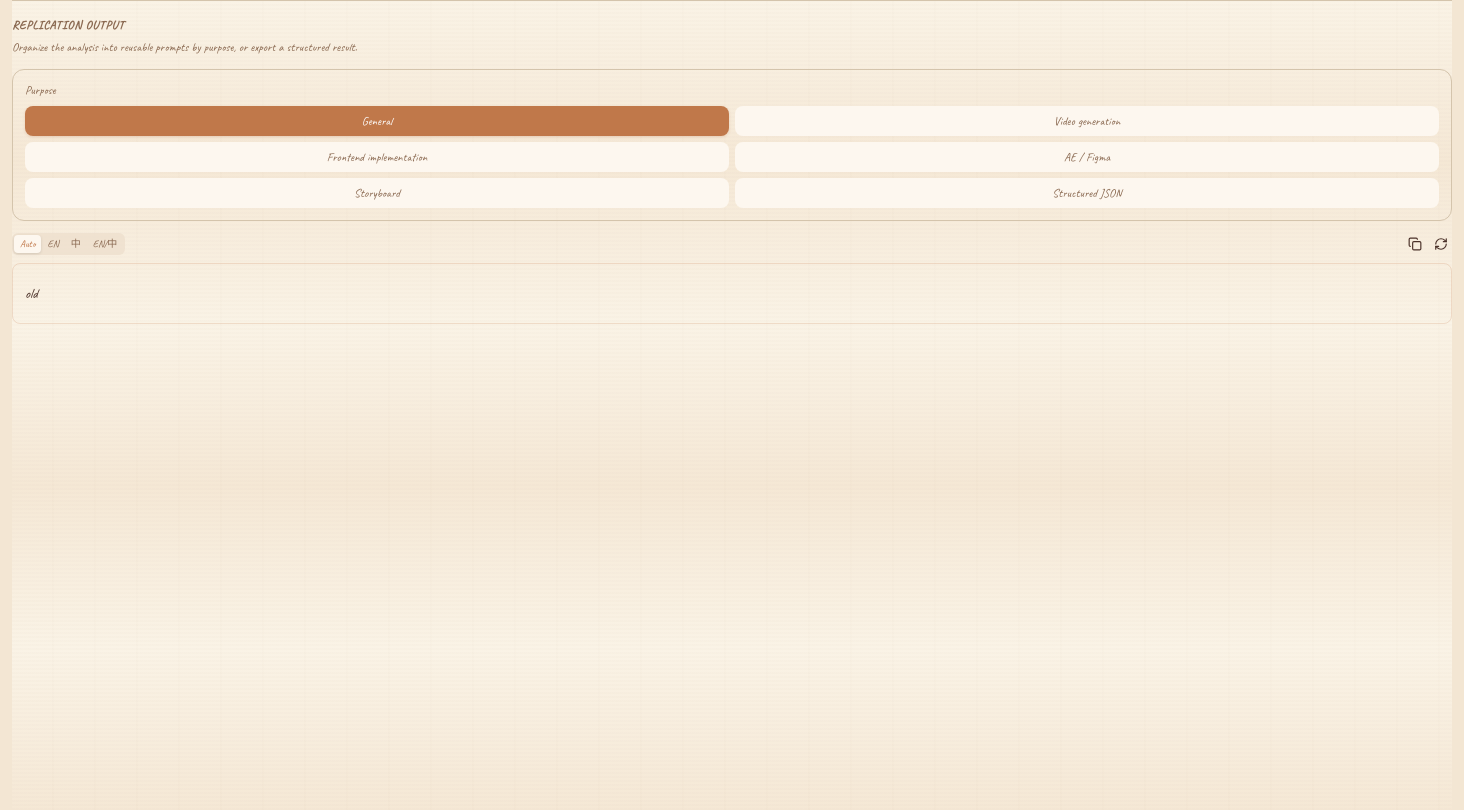
Test: VideoPromptPanel › forces regeneration when refreshing an existing prompt
The width and height of the screenshot is (1464, 810).
Expected: the text "old" is shown, [25,285,38,302]
Step 1. Click the button named "Regenerate" → (1441, 244), box [1430,233,1452,255]
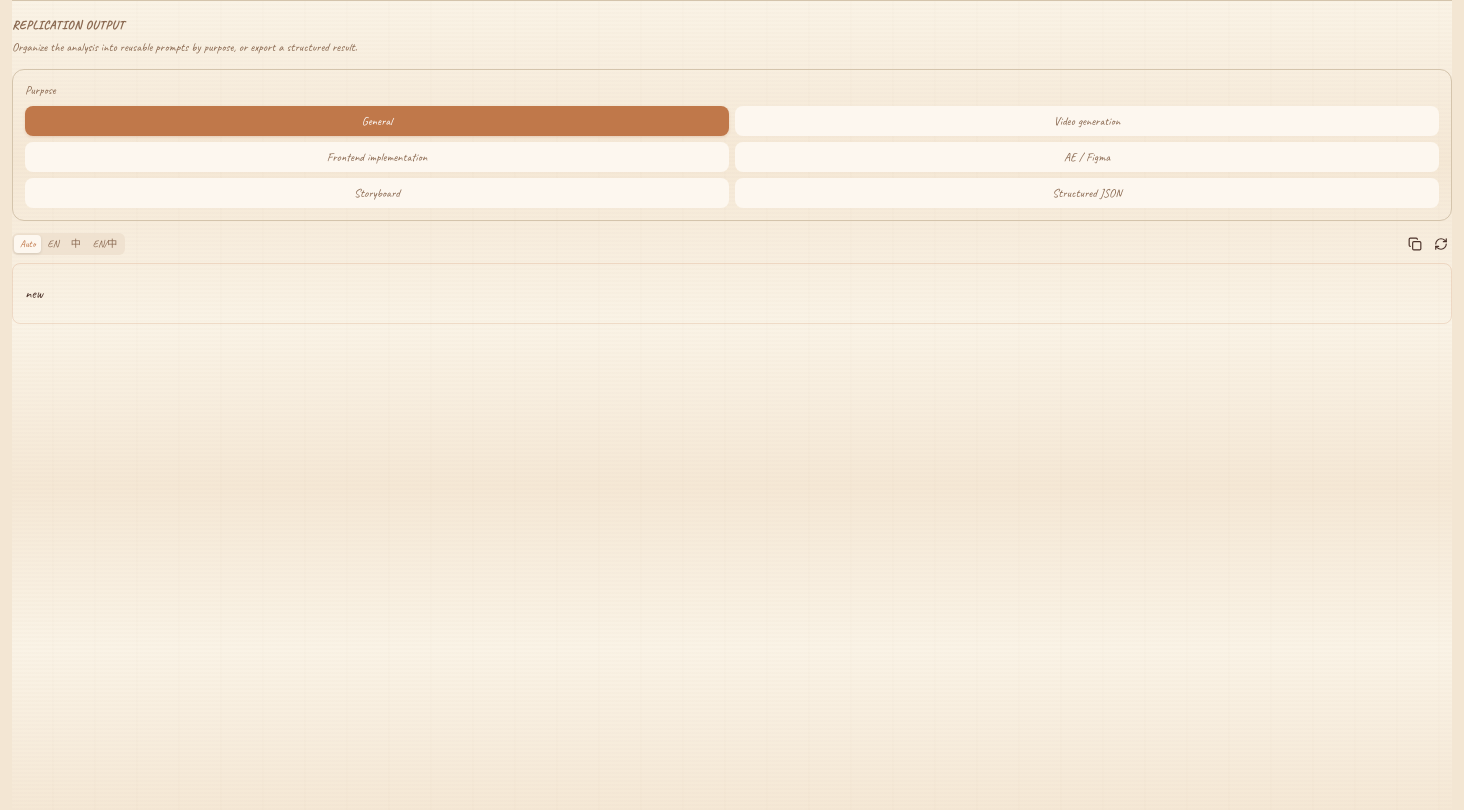
Expected: the text "new" is shown, [25,285,43,302]
